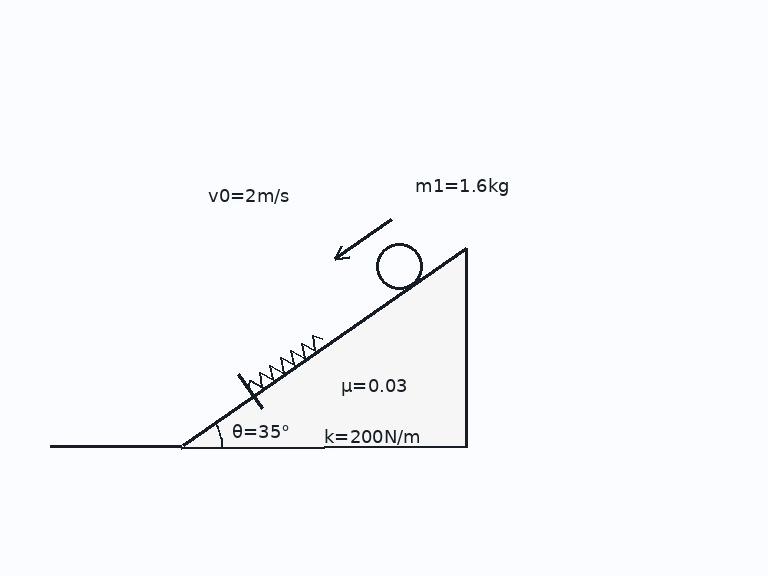ball: (374, 241, 424, 291)
ramp: (180, 245, 468, 448)
spring: (246, 333, 324, 391)
